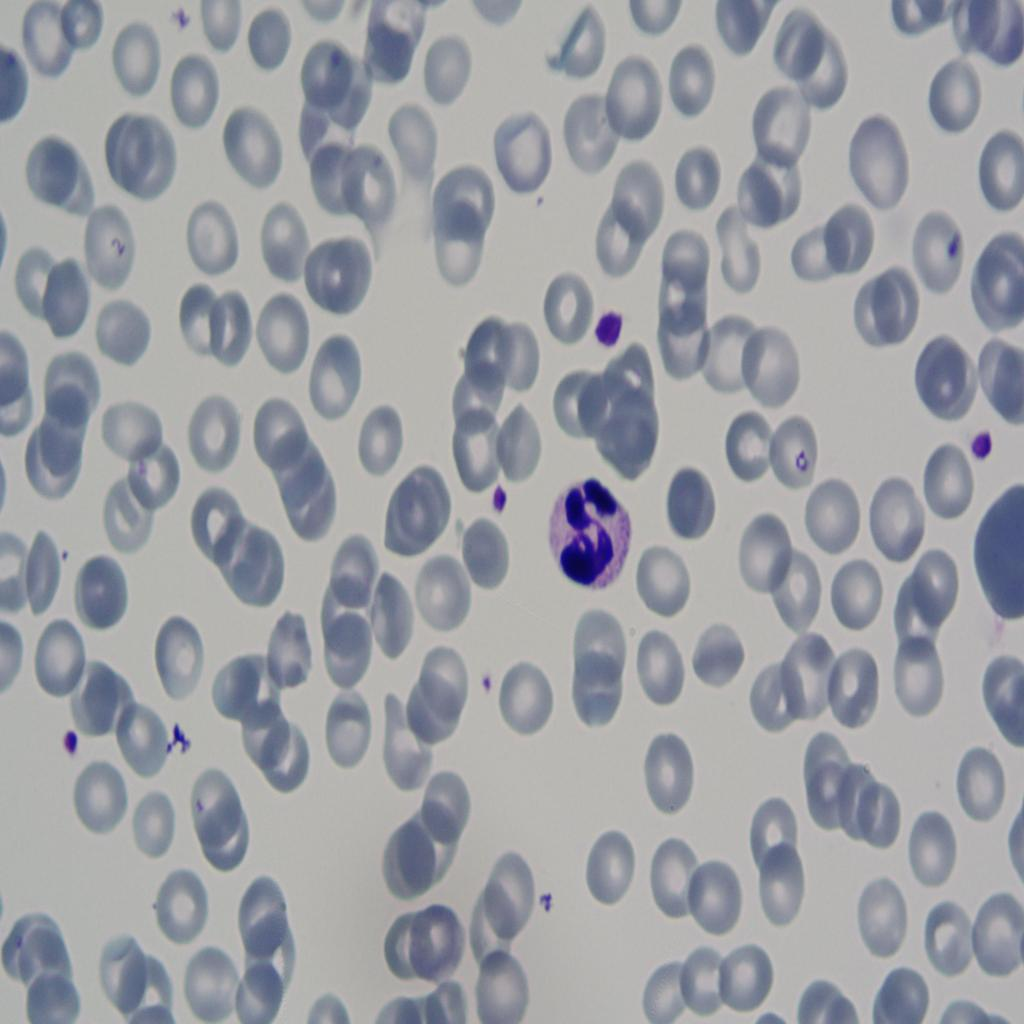Neutrofil: (538, 468, 634, 604)
Platelet: (583, 292, 632, 354), (967, 428, 1004, 483), (482, 488, 522, 529), (471, 660, 501, 708), (53, 720, 84, 760), (942, 230, 961, 278), (538, 885, 556, 924), (796, 442, 810, 486)
